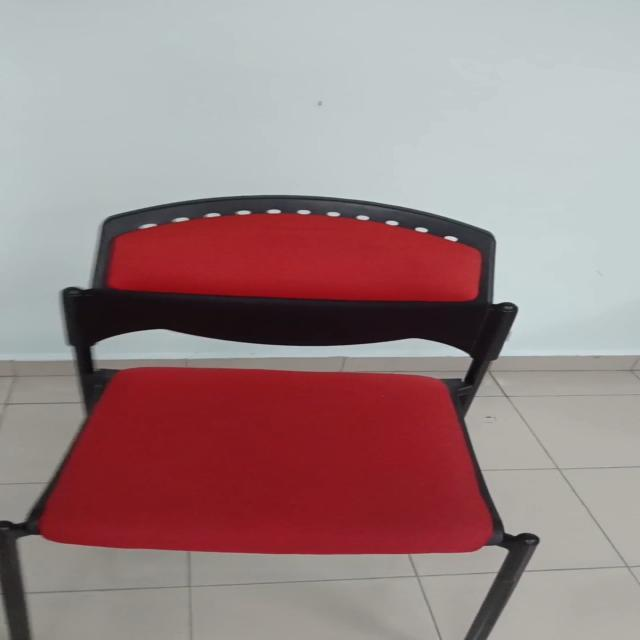sandalye: (0, 196, 539, 640)
